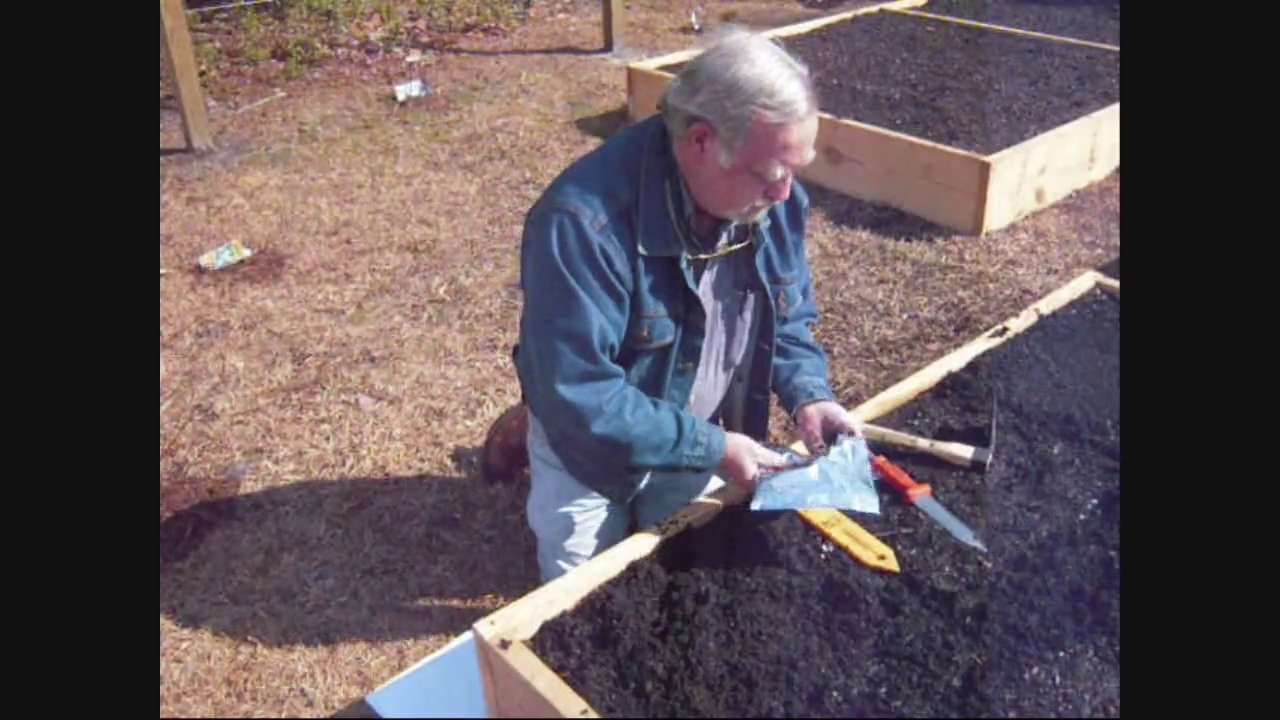person: (483, 25, 864, 584)
